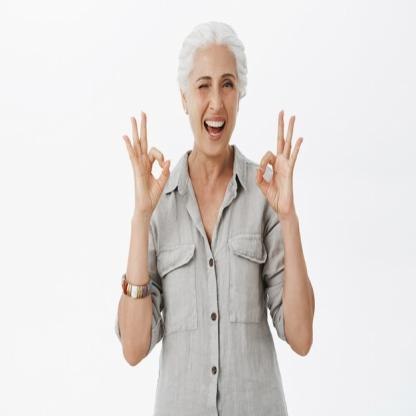ok: (254, 107, 304, 218), (123, 110, 173, 217)
